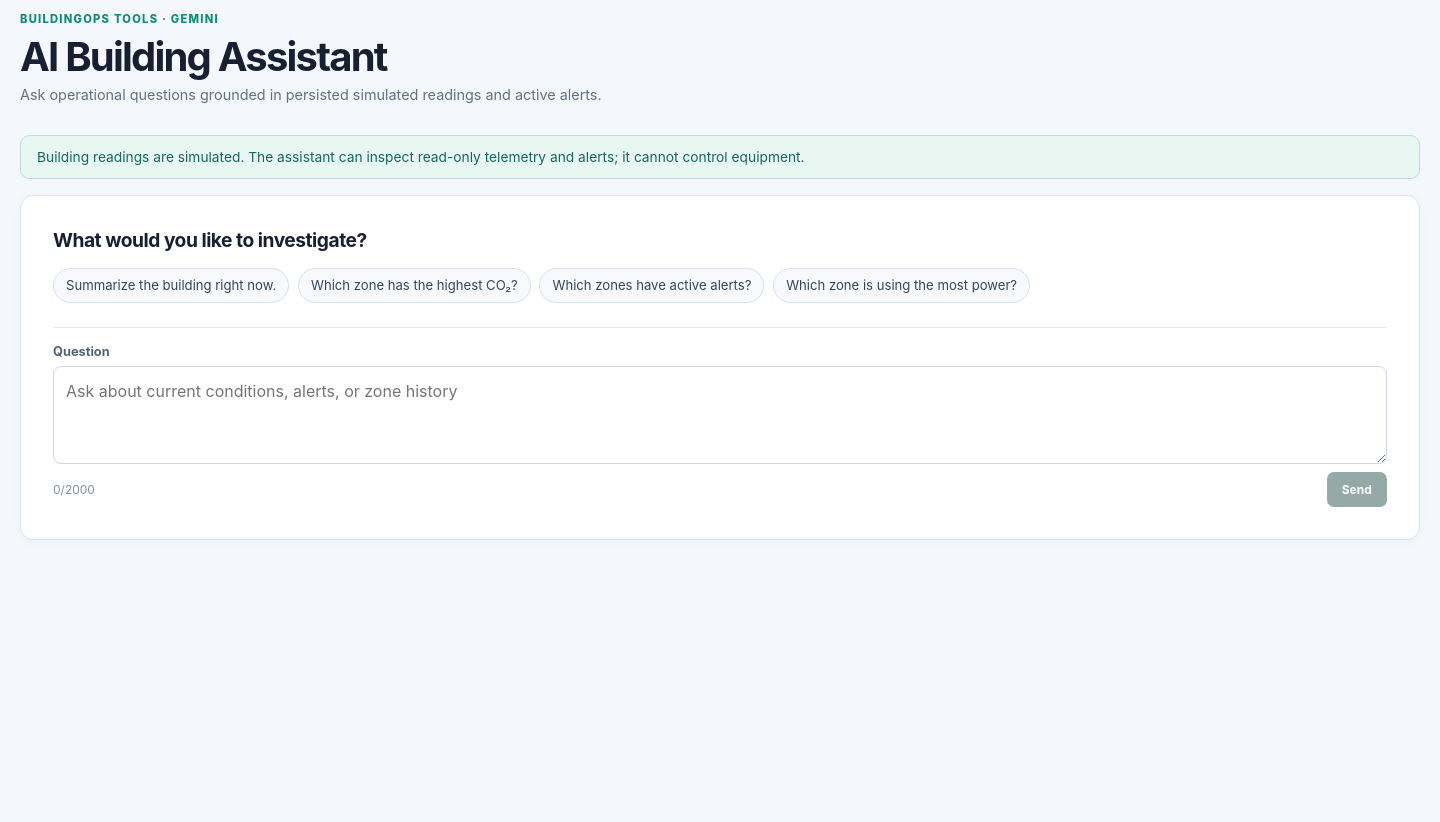
AIAssistantPage › renders an operational-data fallback returned as a safe chat response
The width and height of the screenshot is (1440, 822).
Step 1. Click the button "Which zones have active alerts?" → [652, 285], box [540, 268, 764, 303]
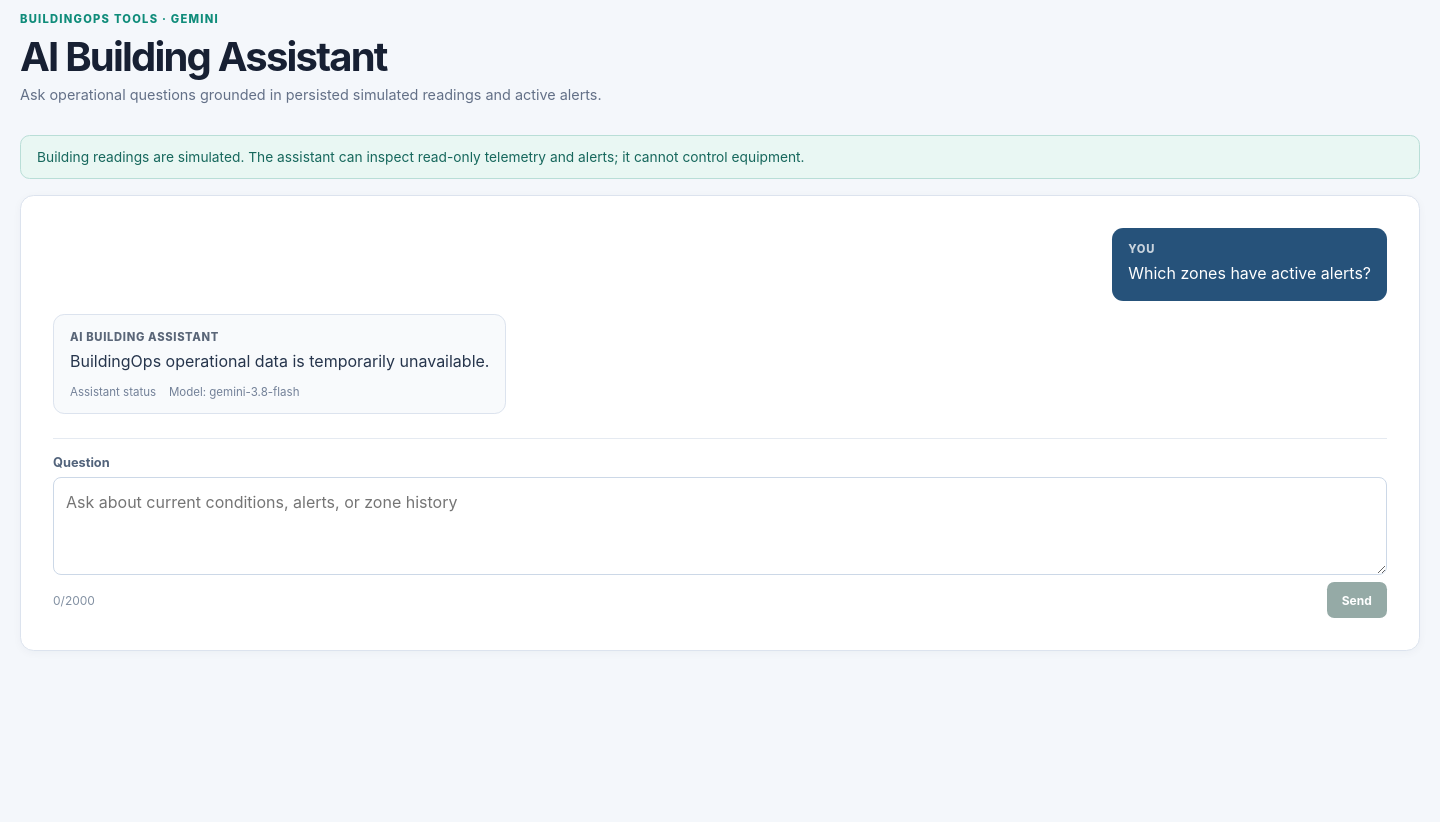
Check: the text "BuildingOps operational data is temporarily unavailable." is shown, box [70, 348, 490, 374]
Check: the text "Assistant status" is shown, box [70, 384, 156, 398]
